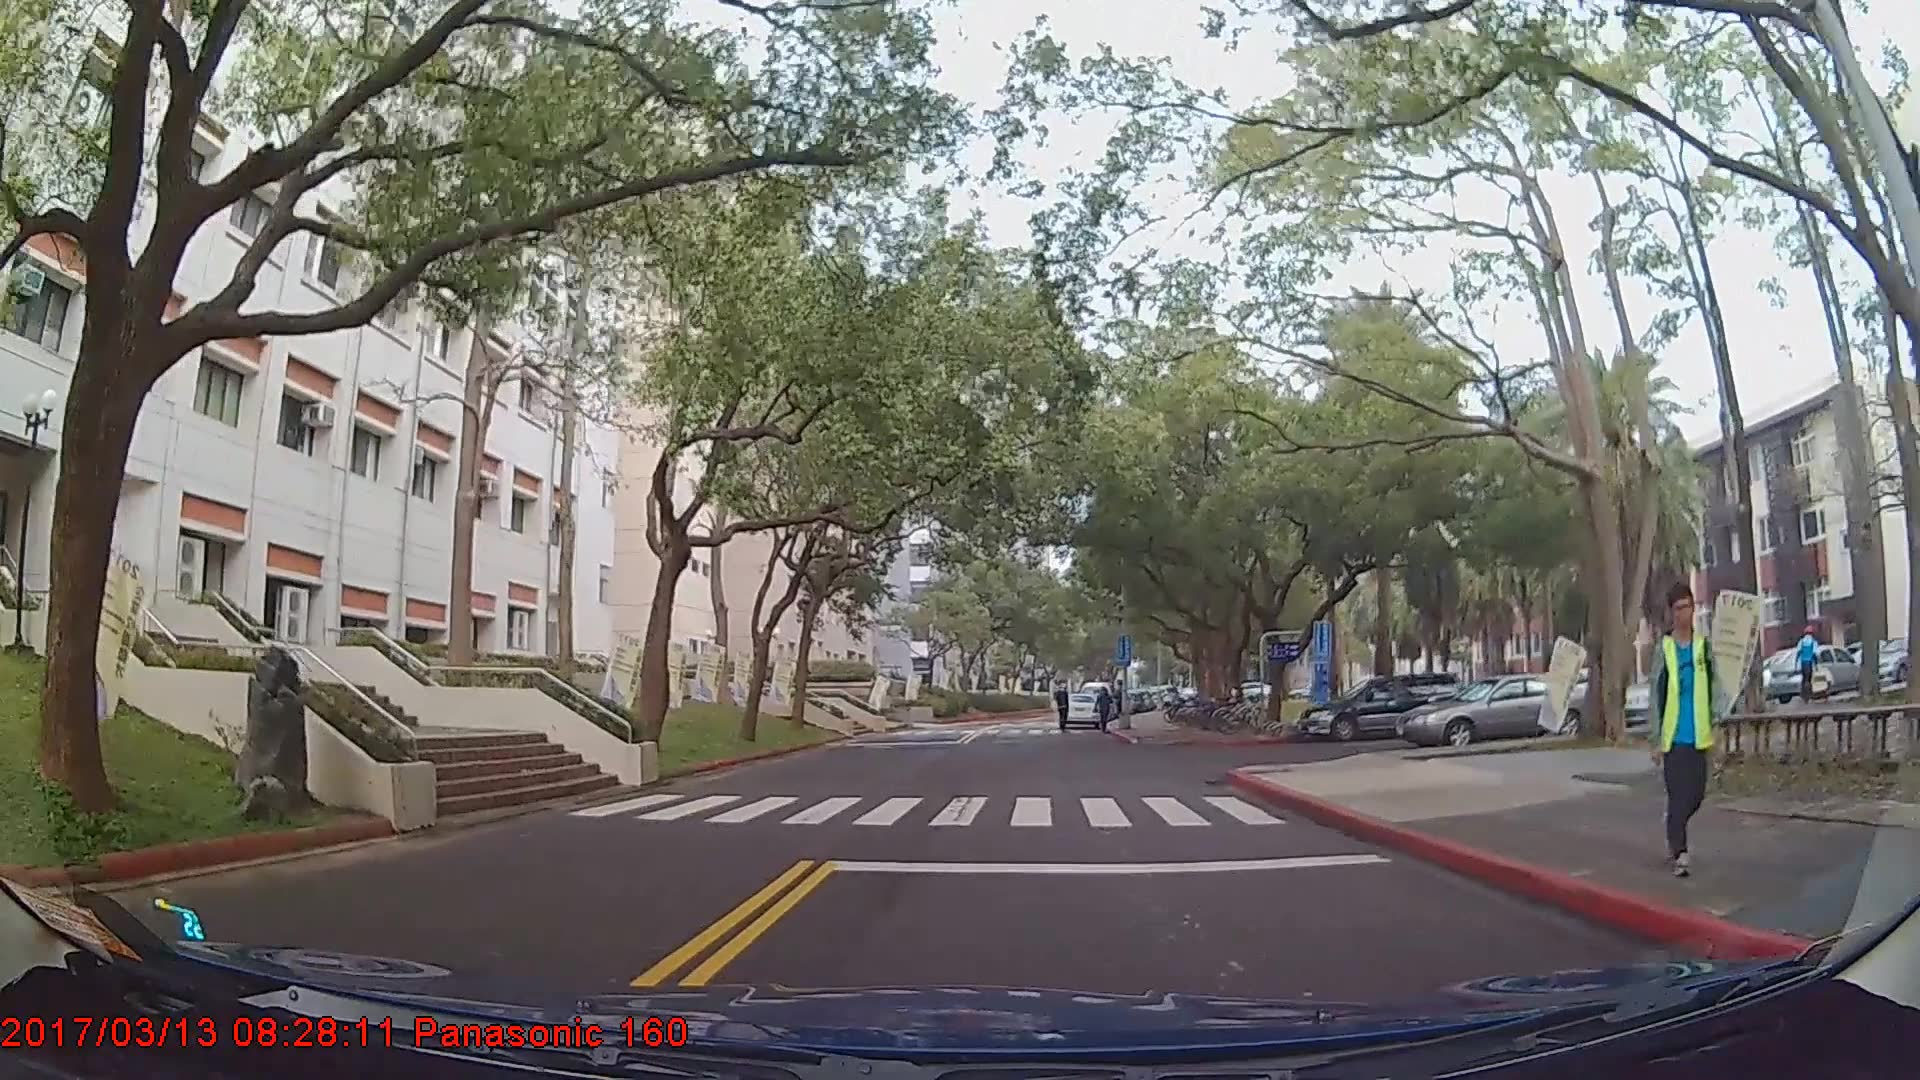pedestrian: (1646, 577, 1725, 874), (1789, 616, 1823, 708), (1095, 686, 1116, 735), (1053, 684, 1073, 735)
vehicle: (1396, 670, 1601, 747), (1298, 669, 1465, 739), (1770, 640, 1864, 698), (1057, 690, 1102, 727)
